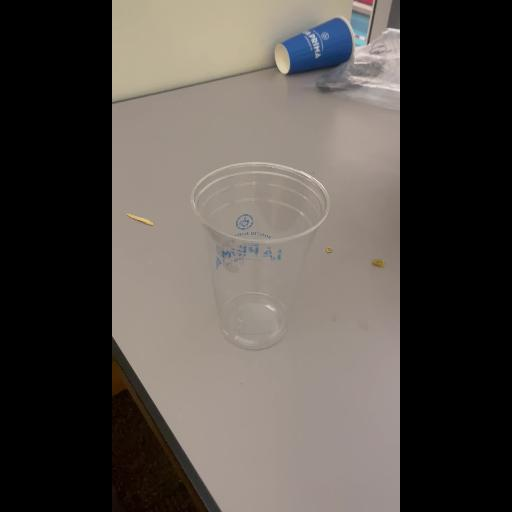lp_plastic_cup: (180, 150, 340, 358)
